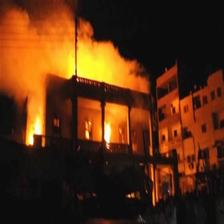fire: (9, 42, 146, 150)
